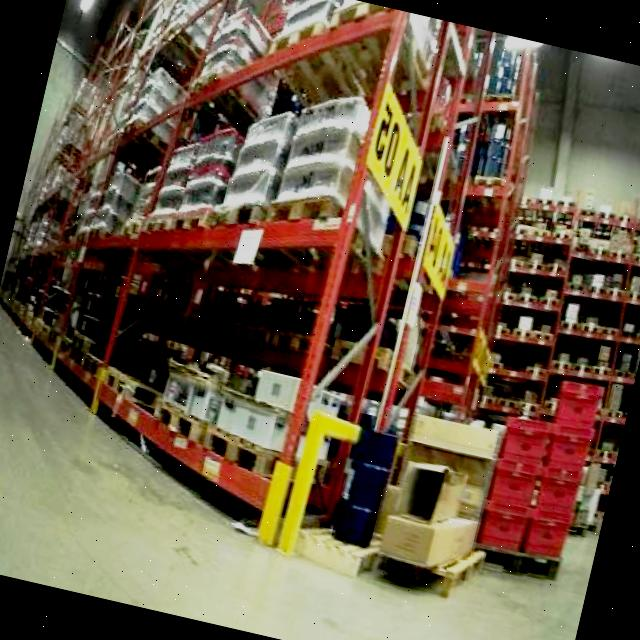ground: (0, 284, 623, 640)
pallet: (451, 173, 640, 534), (471, 364, 608, 583), (366, 406, 515, 604)
